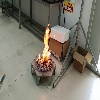fire: (39, 23, 51, 67)
